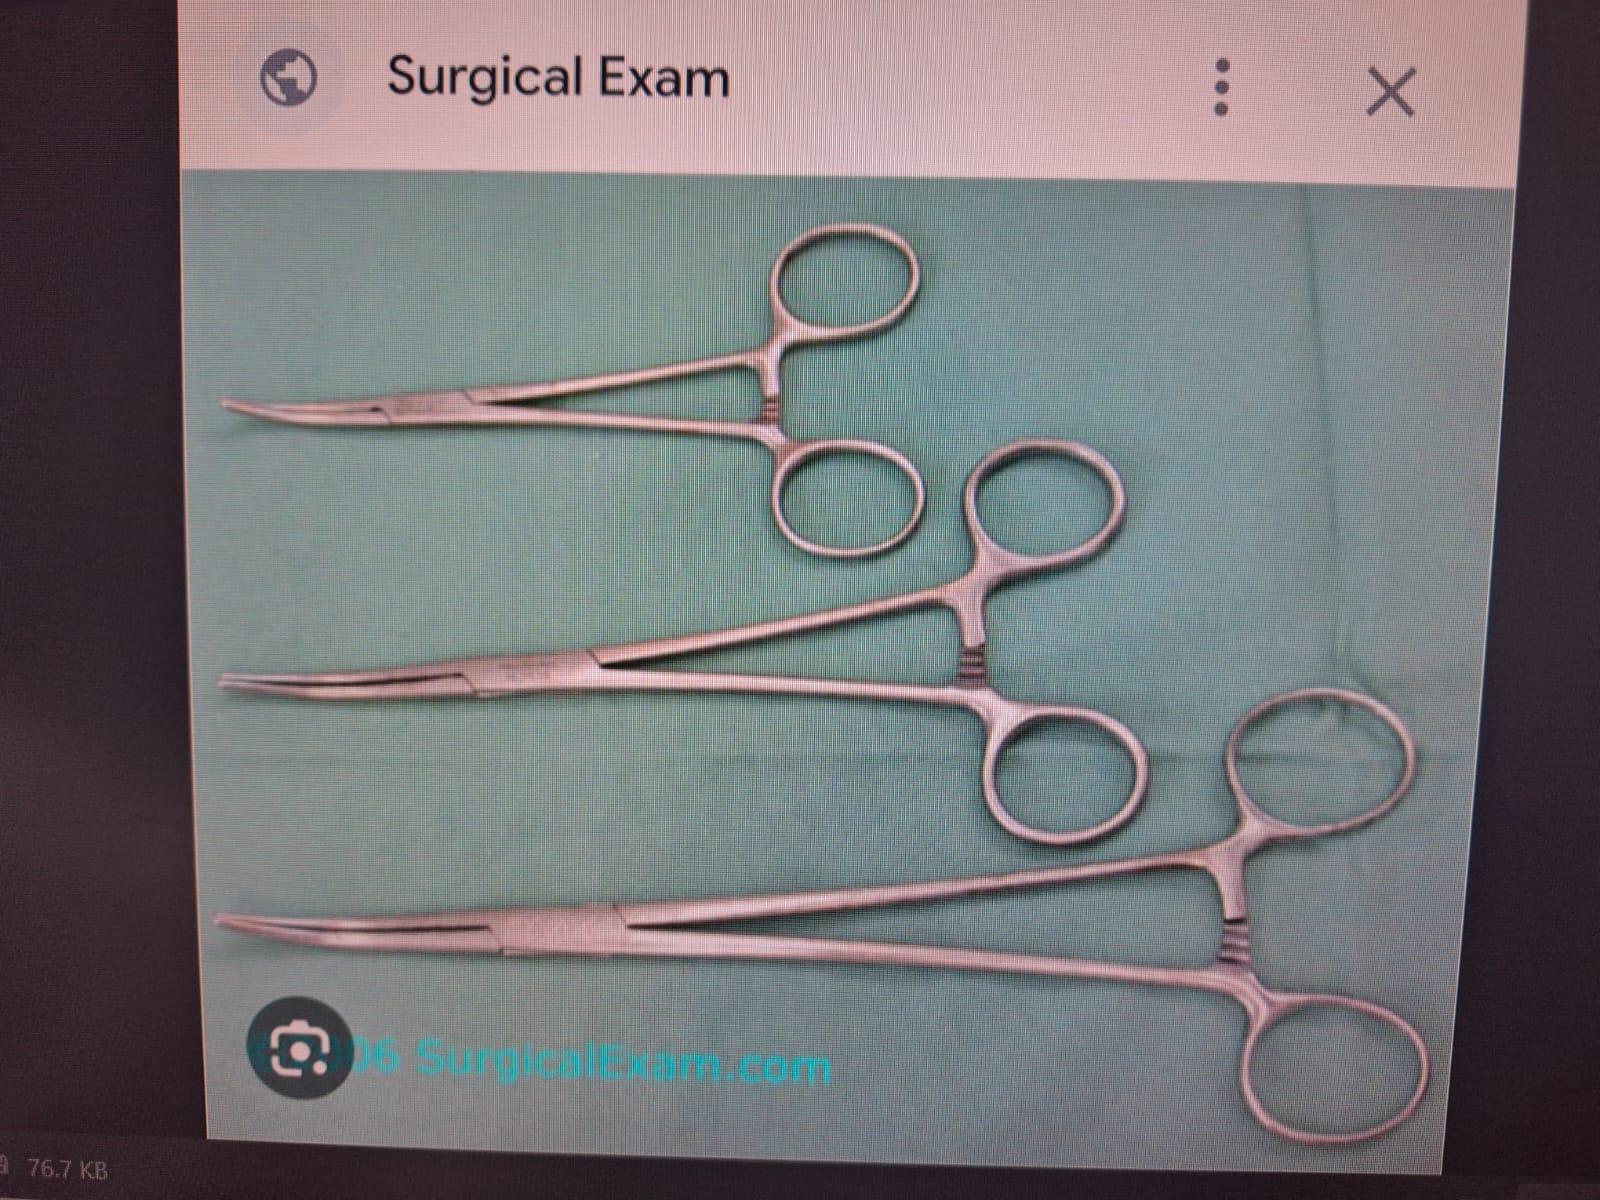Artery Forceps: (214, 674, 1456, 1155), (204, 432, 1164, 879), (204, 212, 946, 574)
